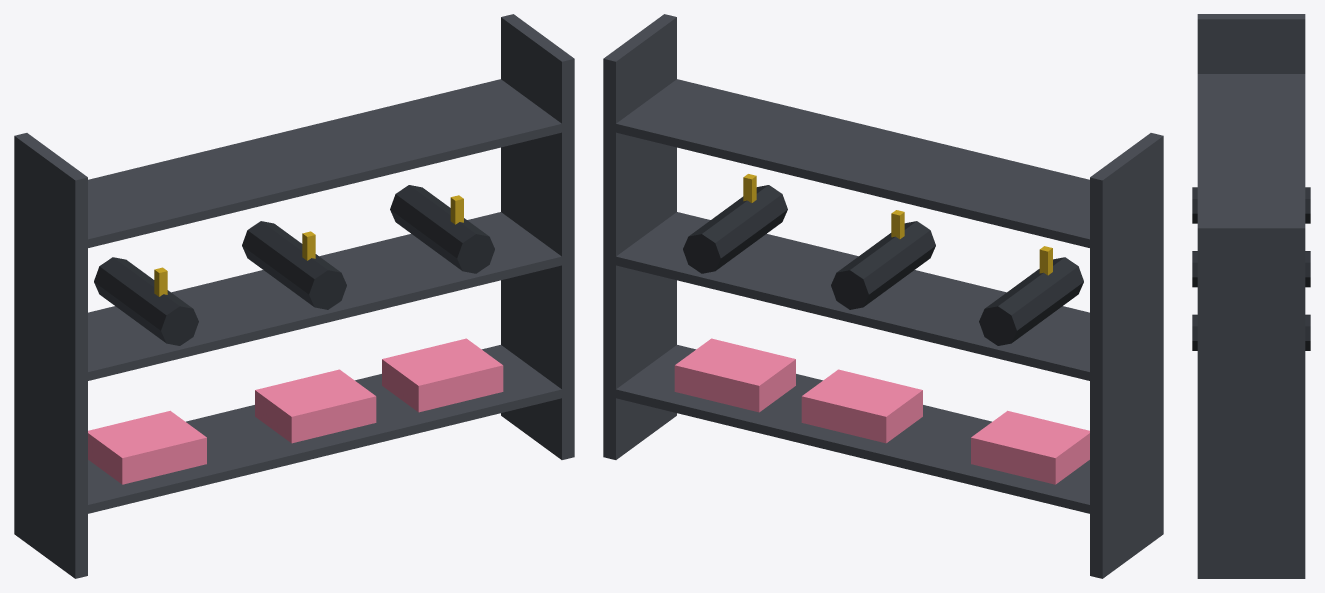
Rendered from station_rack.glb.
3 renders of one model, left to right at view 1: azimuth 30°, elevation 25°; view 2: azimuth 150°, elevation 25°; view 3: azimuth 270°, elevation 25°, orthographic. The views are drawn at different scales.
Visible parts, largest first — view 1: shelves_rack_steel, frame_rack_steel, donuts_donut_box (×3), rams_ram_iron, rams_ram_handle; view 2: shelves_rack_steel, frame_rack_steel, donuts_donut_box (×3), rams_ram_iron, rams_ram_handle; view 3: frame_rack_steel, shelves_rack_steel, rams_ram_iron.
Boxes of the visible parts, <box> form: shelves_rack_steel: <box>81,79,568,514</box>; frame_rack_steel: <box>14,14,574,578</box>; donuts_donut_box (×3): <box>88,338,503,484</box>; rams_ram_iron: <box>94,185,494,345</box>; rams_ram_handle: <box>154,195,463,296</box>; shelves_rack_steel: <box>609,79,1093,513</box>; frame_rack_steel: <box>603,14,1163,578</box>; donuts_donut_box (×3): <box>674,338,1089,484</box>; rams_ram_iron: <box>683,185,1083,345</box>; rams_ram_handle: <box>743,174,1052,275</box>; frame_rack_steel: <box>1197,14,1305,578</box>; shelves_rack_steel: <box>1197,74,1305,222</box>; rams_ram_iron: <box>1192,187,1310,350</box>.
Size of the model in its own units: 2.36 by 1.8 by 0.55.
